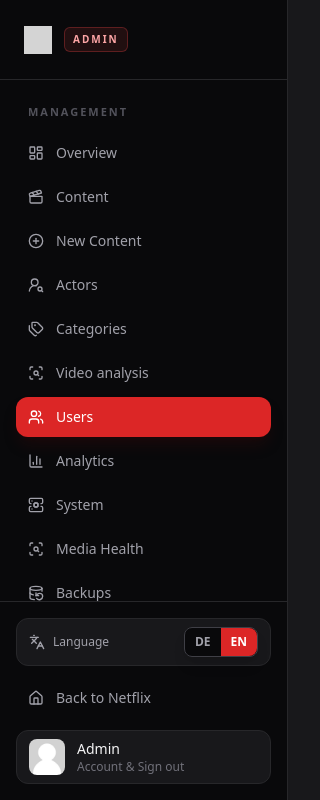
switches the complete admin navigation between German and English
Click the button "DE" at (203, 642), box [185, 628, 220, 656]
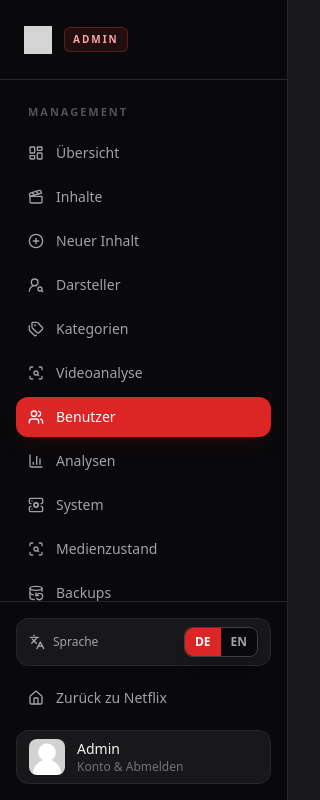
Check: the link "Übersicht" is shown, box [28, 142, 119, 162]
Check: the link "Neuer Inhalt" is shown, box [28, 230, 139, 250]
Check: the link "Benutzer" is shown, box [16, 396, 271, 436]
Click the button "EN" at (239, 642), box [220, 628, 257, 656]
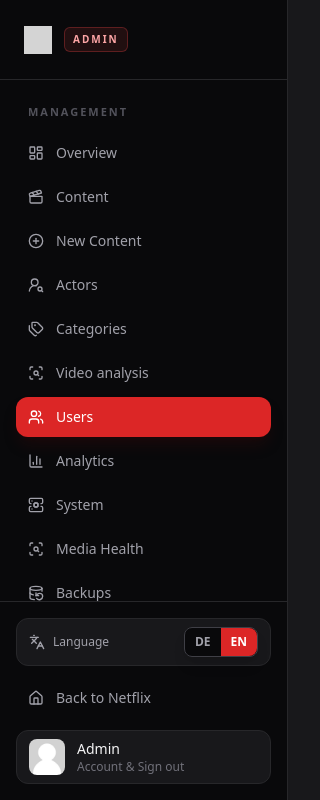
Check: the link "Users" is shown, box [16, 396, 271, 436]
Check: the link "Overview" is shown, box [28, 142, 117, 162]
Check: the link "New Content" is shown, box [28, 230, 142, 250]
